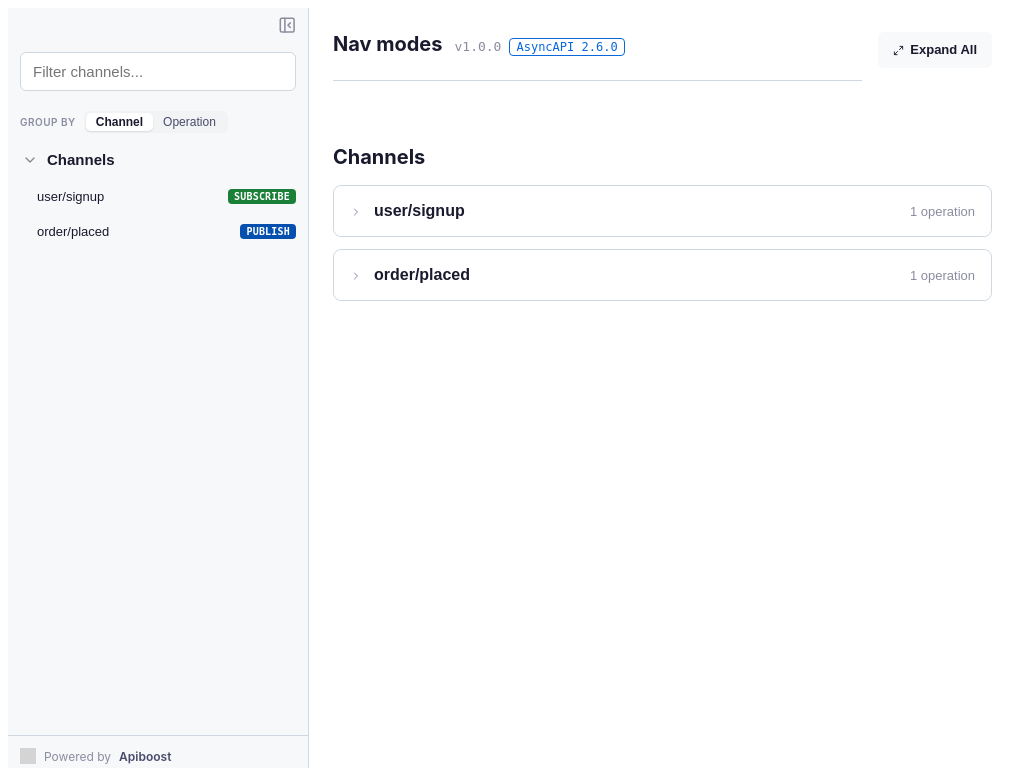
Test case: AsyncApiSpec sidebar grouping mode › defaults to grouping by channel and can switch to grouping by operation
Check: the text "user/signup" below "Group by" is shown, box [37,189,104,204]
Check: the text "onUserSignup" is not shown
Note: Switch to grouping by operation.
What coordinates should you click on to do the following:
click the button with aria-label "group by operation"
I would click on:
 (189, 122)
Its box is [153,113,226,131].
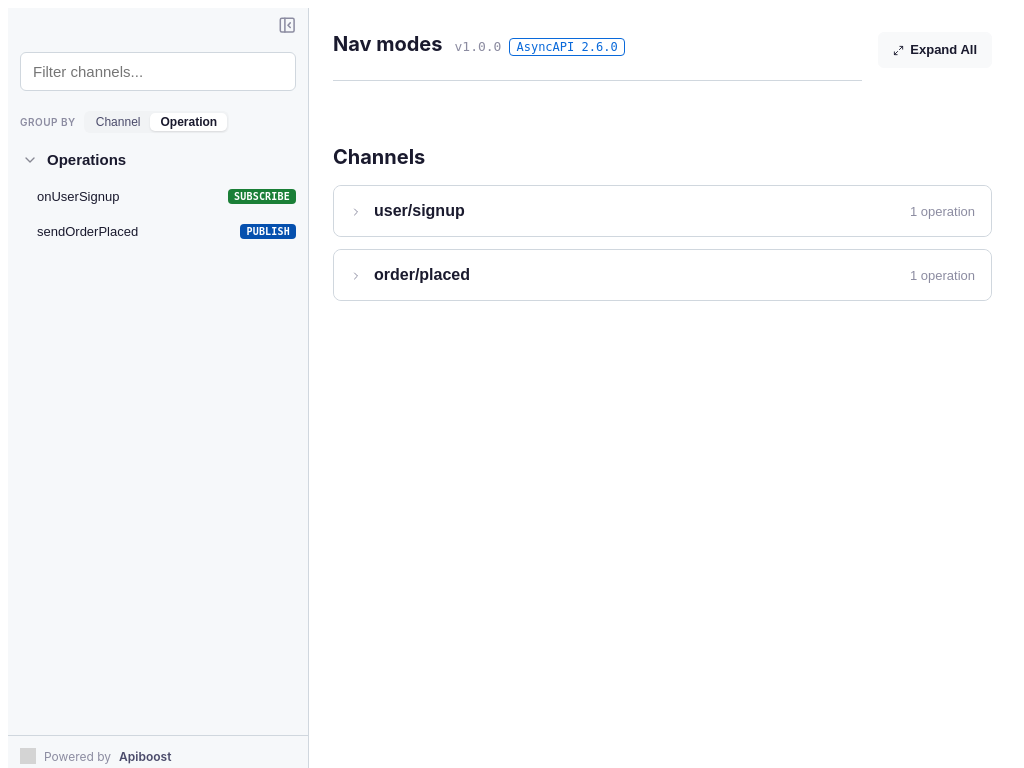
Check: the text "onUserSignup" is shown, box [37,189,119,204]
Check: the text "sendOrderPlaced" is shown, box [37,224,138,239]
